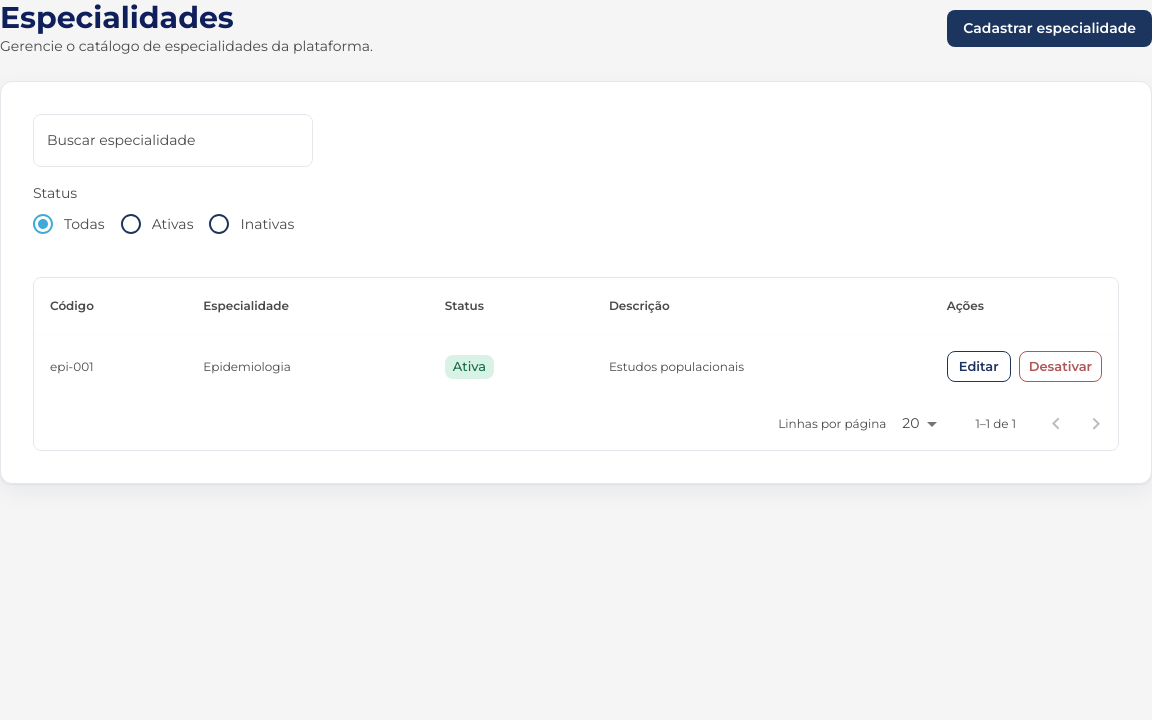
Test: Specialties › confirma a alteração de status de true e atualiza o chip
This screenshot has width=1152, height=720.
Click the button "Desativar" at (1060, 367), box [1019, 351, 1102, 382]
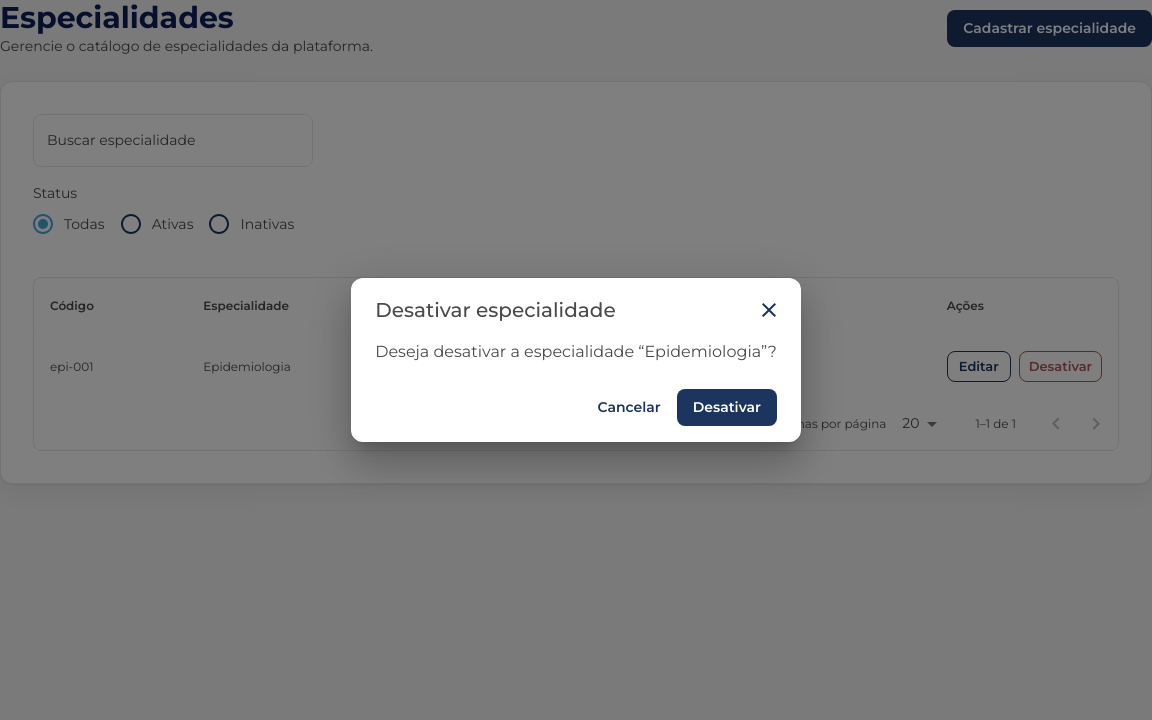
Click the button "Cancelar" at (629, 408), box [589, 389, 669, 426]
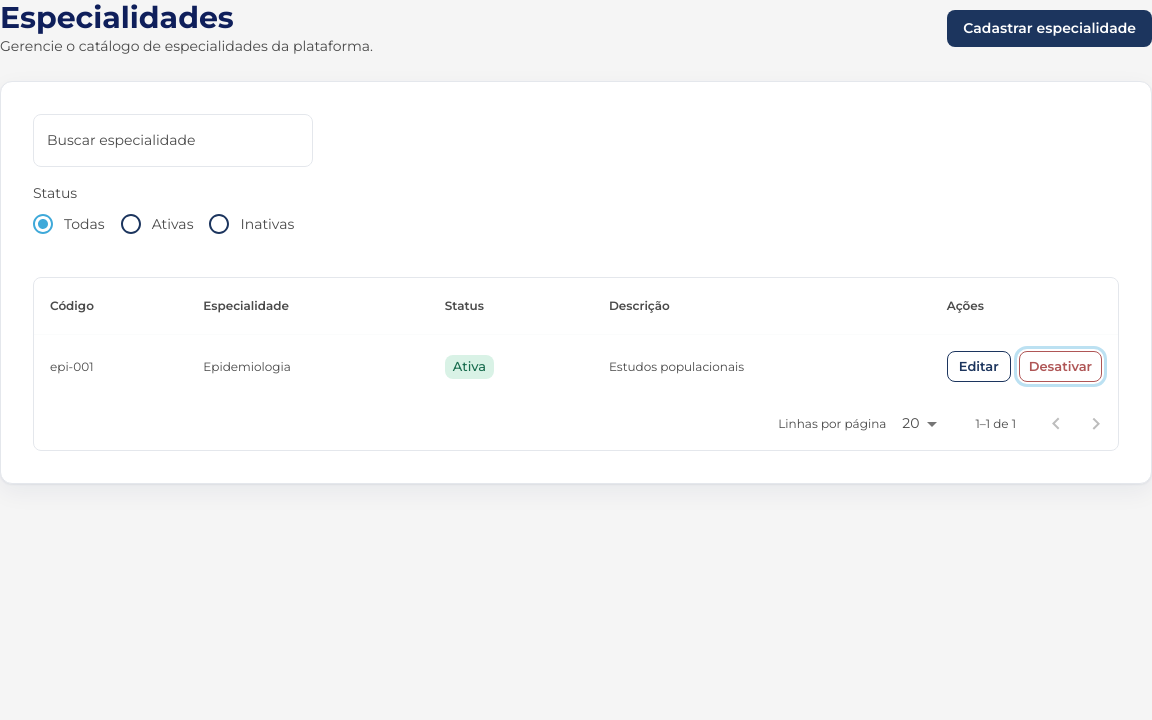
Expected: the dialog is gone
Click the button "Desativar" at (1060, 367), box [1019, 351, 1102, 382]
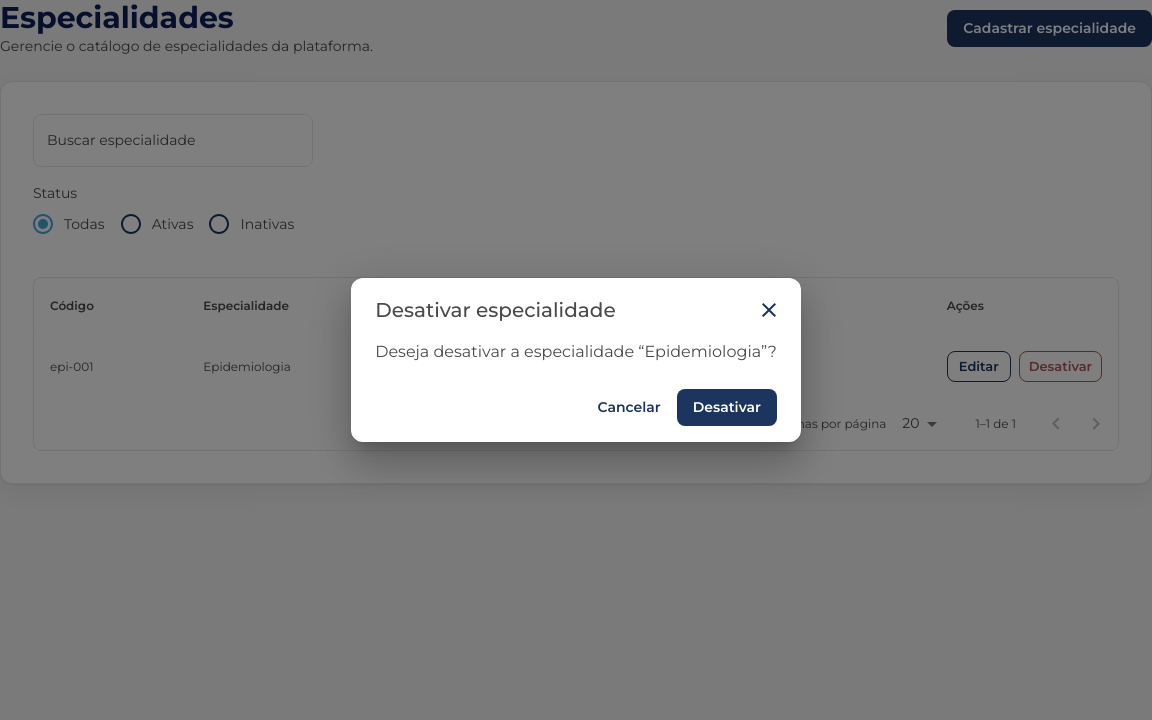
Click the button "Desativar" at (727, 408), box [677, 389, 777, 426]
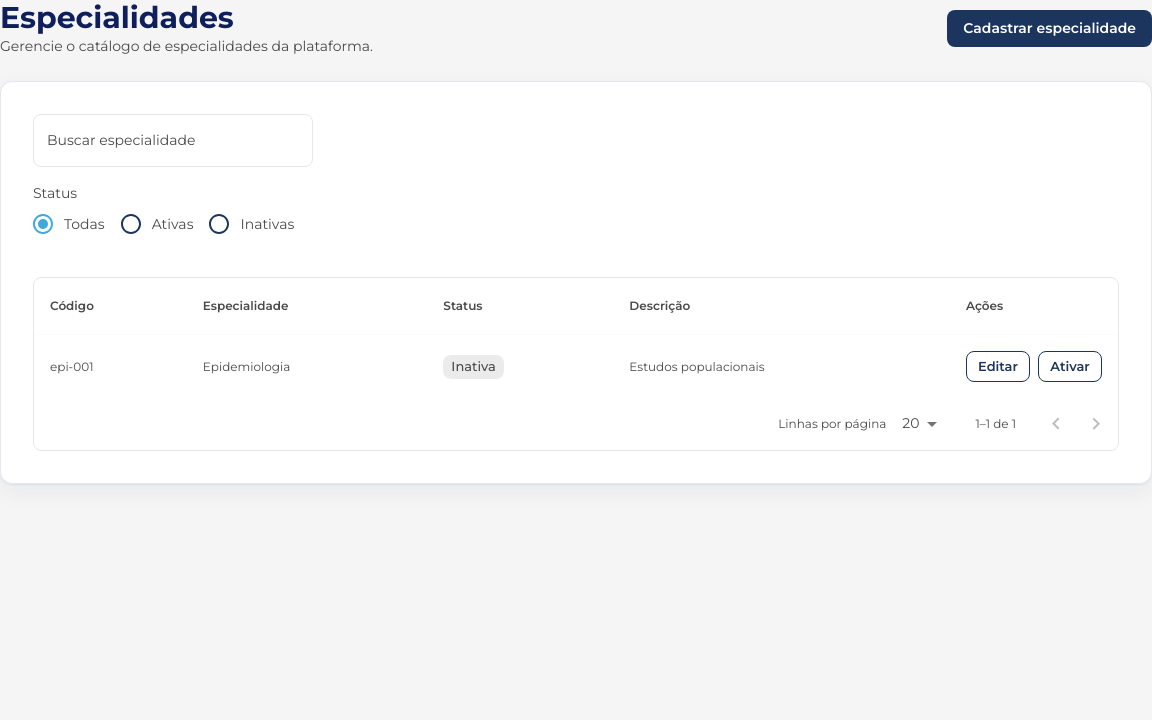
Expected: the dialog is gone
Expected: the text "Inativa" is shown, [451, 358, 496, 374]
